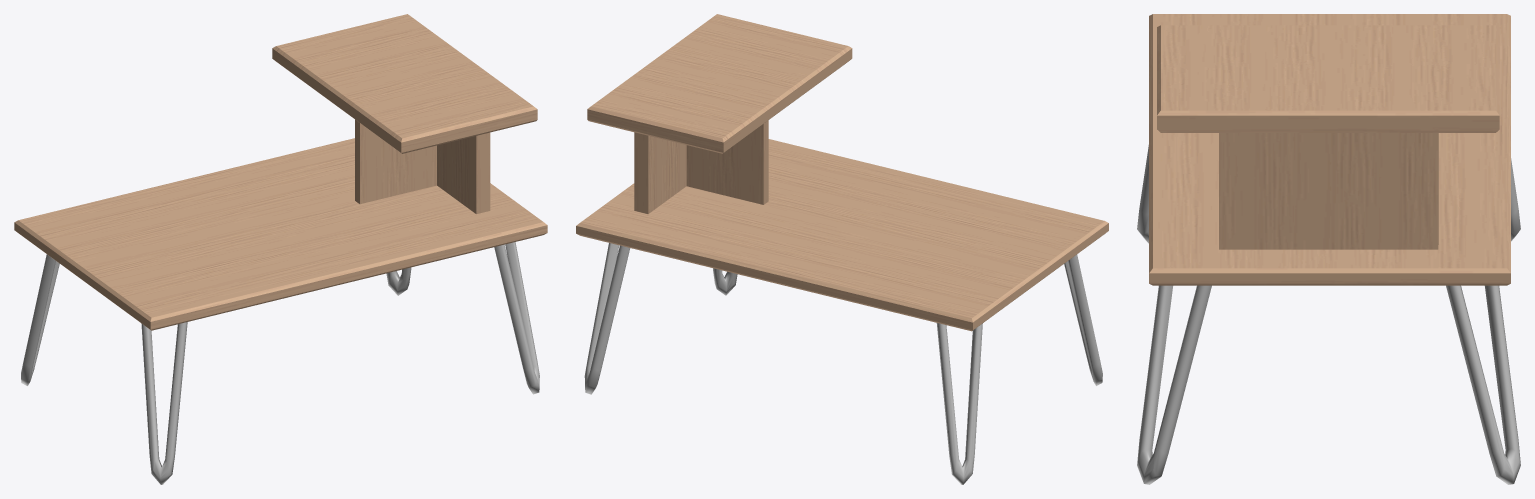
The model's file is End_Table_03.FBX.
3 renders of one model, left to right at view 1: azimuth 30°, elevation 25°; view 2: azimuth 150°, elevation 25°; view 3: azimuth 270°, elevation 25°, orthographic. The views are drawn at different scales.
Parts seen in each view (by area): view 1: End_Table; view 2: End_Table; view 3: End_Table.
Boxes of the visible parts, <box> form: End_Table: <box>14,14,547,484</box>; End_Table: <box>576,14,1108,484</box>; End_Table: <box>1137,14,1520,484</box>.
Size of the model in its own units: 160 by 109 by 101.
